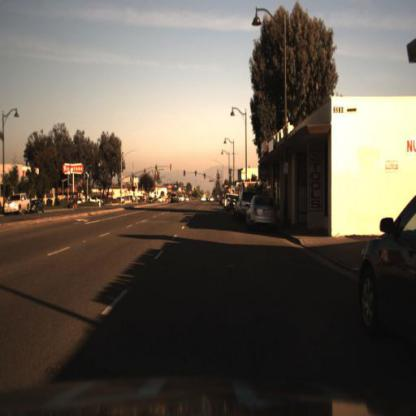car: (360, 194, 416, 352), (247, 191, 280, 233), (1, 192, 33, 221), (30, 200, 46, 217)
